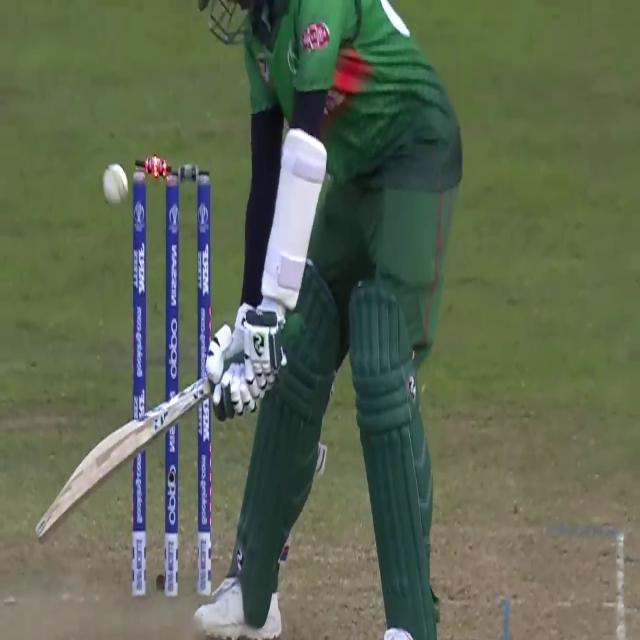ball: (98, 159, 131, 213)
